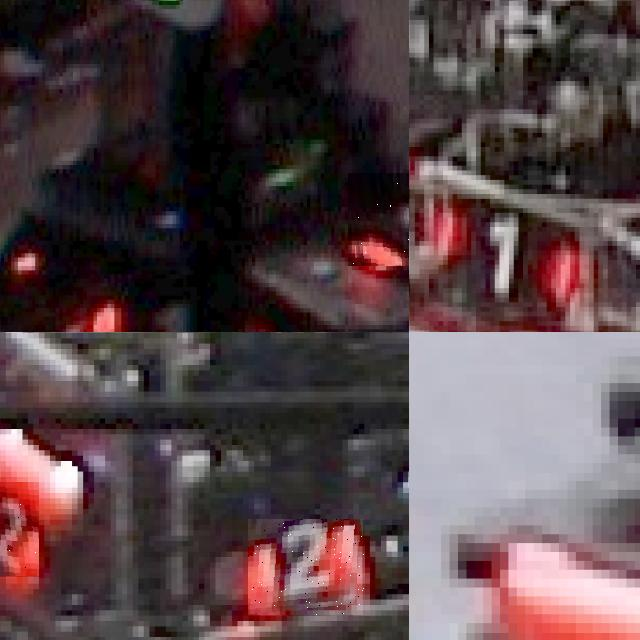R1: (434, 204, 574, 298), (348, 173, 409, 265)
R2: (248, 520, 364, 616), (0, 482, 39, 578)
